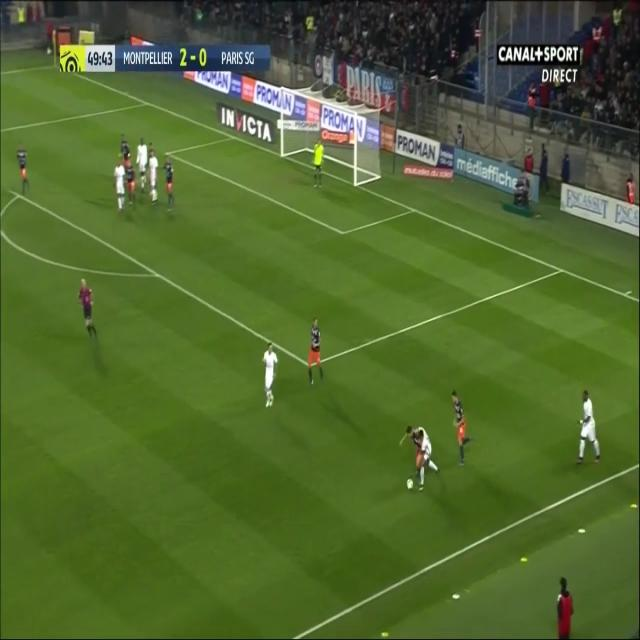Ball: (406, 475, 415, 495)
Goalkeeper: (312, 135, 327, 192)
Player: (574, 389, 601, 468), (449, 386, 474, 470), (417, 423, 442, 493), (308, 314, 326, 395), (261, 343, 279, 410), (112, 157, 129, 215), (162, 154, 178, 215), (14, 142, 30, 199), (135, 138, 150, 195), (148, 146, 160, 210), (125, 158, 137, 212)
Referee: (77, 271, 102, 344)
